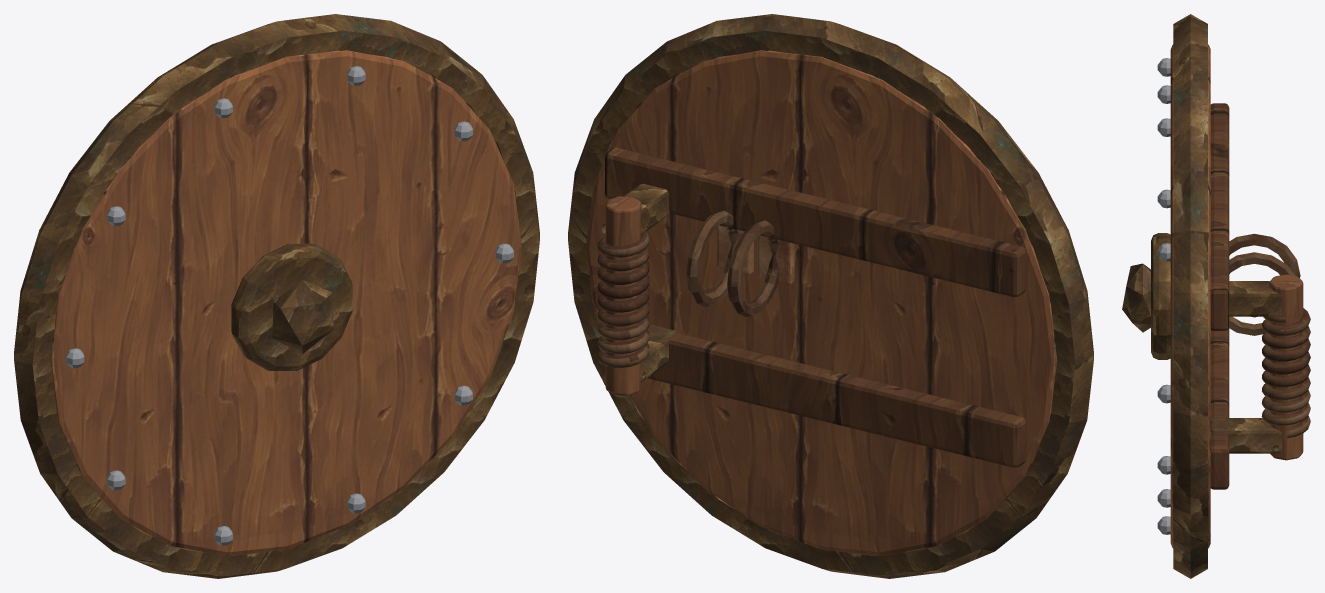
Rendered from shield_bronze.glb.
3 renders of one model, left to right at view 1: azimuth 30°, elevation 25°; view 2: azimuth 150°, elevation 25°; view 3: azimuth 270°, elevation 25°, orthographic. The views are drawn at different scales.
Visible parts, largest first — view 1: model; view 2: model; view 3: model.
Boxes of the visible parts, x1,y1,x2,y2 form: model: [14, 14, 539, 578]; model: [568, 14, 1093, 578]; model: [1122, 14, 1310, 578].
Bounding box in the file's own units: 0.71 × 0.71 × 0.2372.
7 materials, 6 textured.
